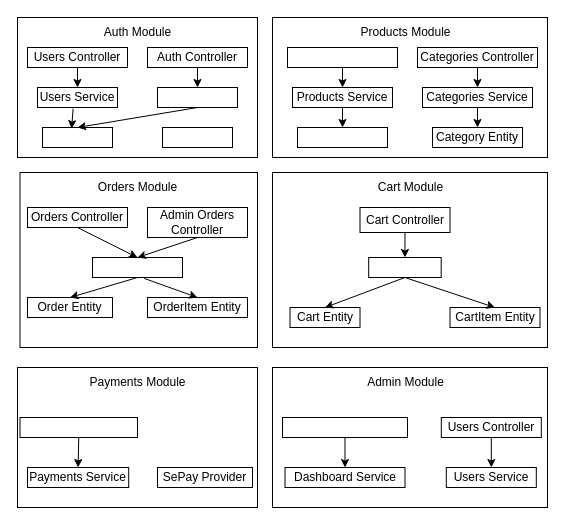
This 565x525 diagram has some shape labels left out. The centre of each missing label's shape, as x and y in pixels:
Auth Service: [197,97]
Cart Service: [404,267]
Dashboard Controller: [345,427]
JWT Guards: [197,137]
Orders Service: [137,267]
Payments Controller: [78,427]
Product Entity: [342,137]
Products Controller: [342,57]
User Entity: [77,137]
